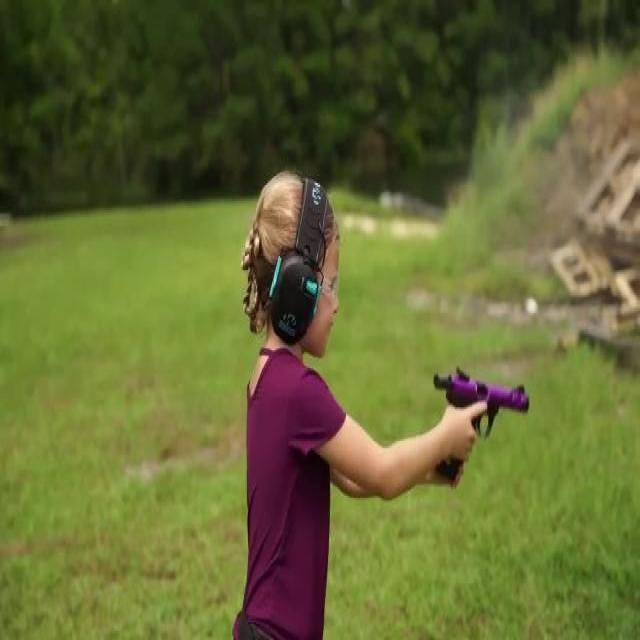pistol: (424, 345, 538, 514)
